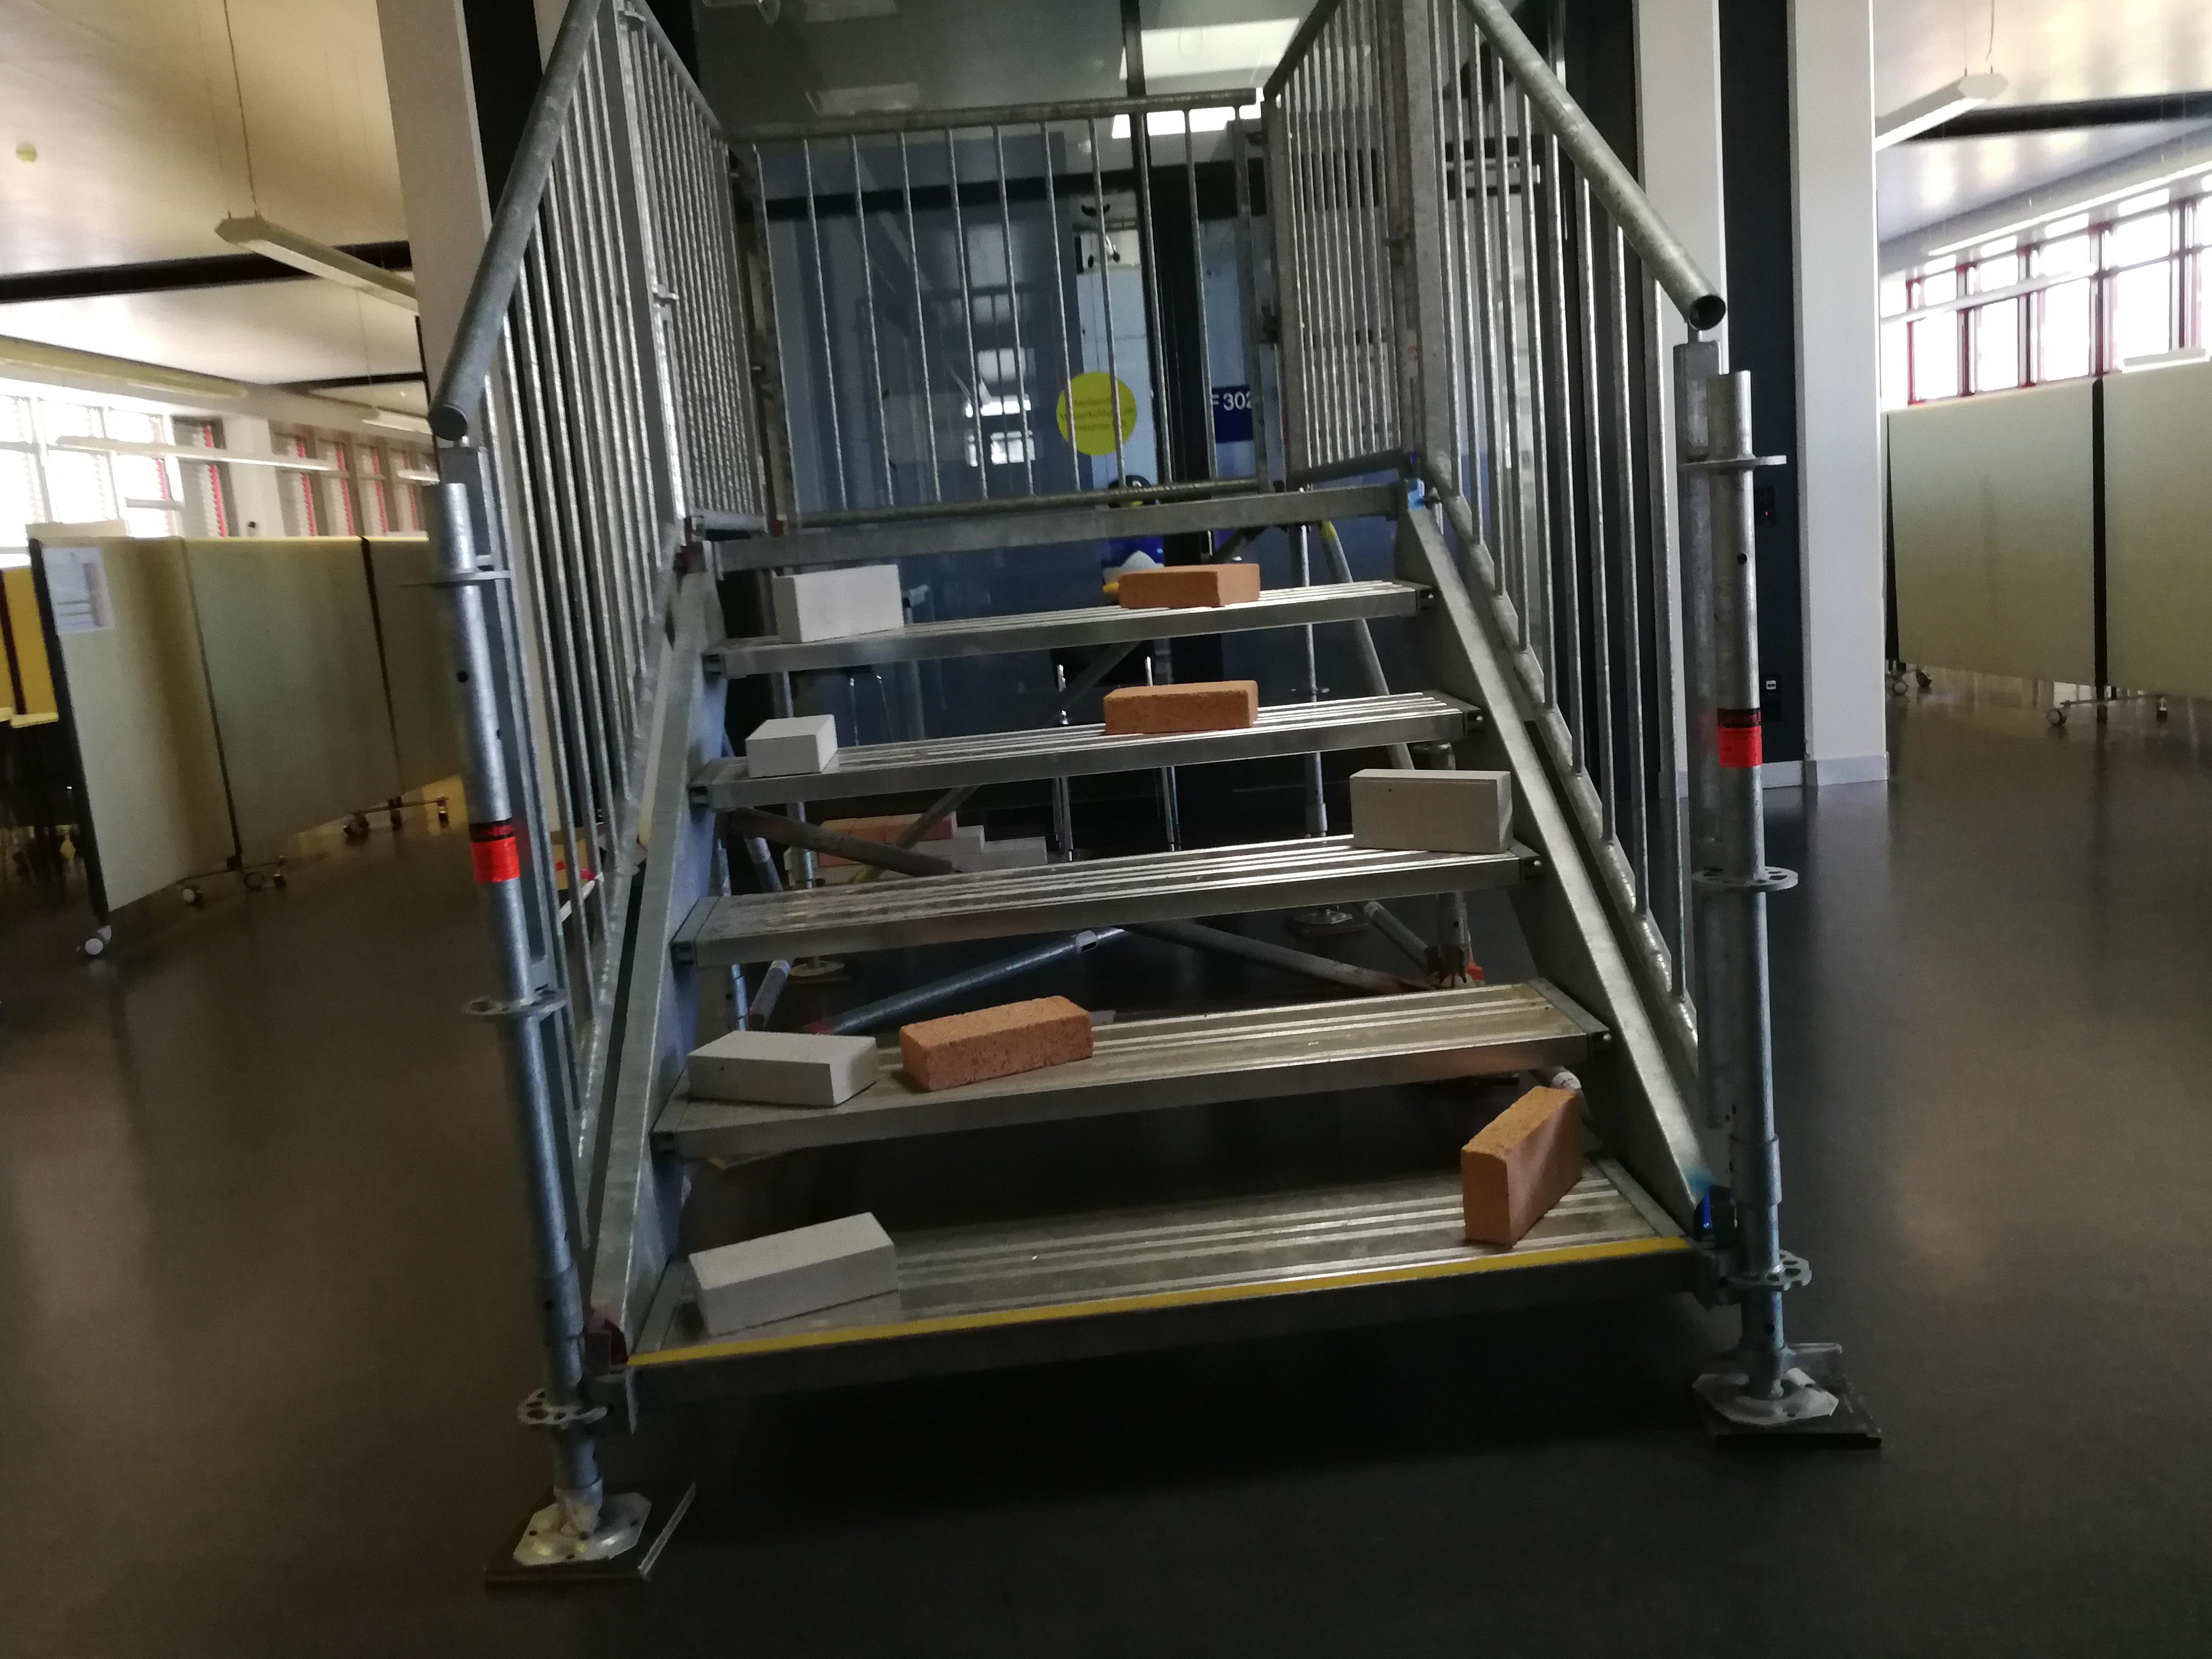brick: (686, 1209, 895, 1335), (1456, 1086, 1581, 1249), (899, 999, 1090, 1087), (686, 1032, 874, 1105), (1352, 770, 1508, 852), (775, 559, 899, 643), (1104, 680, 1259, 732), (744, 713, 834, 774), (1122, 565, 1259, 603)
edge: (637, 1248, 1681, 1405), (648, 1033, 1620, 1155), (671, 857, 1554, 967), (679, 711, 1493, 812), (704, 586, 1440, 674), (714, 476, 1395, 568)
stairs: (486, 2, 1881, 1582)
steps: (627, 464, 1709, 1431)
